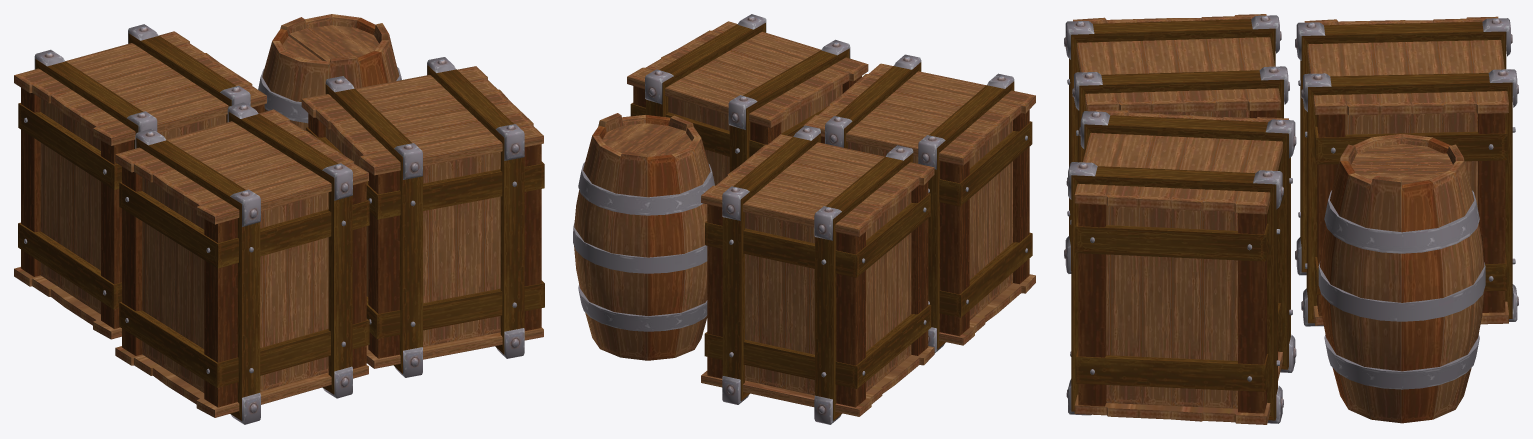
The model's file is crate.glb.
3 renders of one model, left to right at view 1: azimuth 30°, elevation 25°; view 2: azimuth 150°, elevation 25°; view 3: azimuth 270°, elevation 25°, orthographic. The views are drawn at different scales.
Parts seen in each view (by area): view 1: Barrel; view 2: Barrel; view 3: Barrel.
Part boxes in pixels (x1,y1,x2,y2): Barrel: (14,14,544,424); Barrel: (573,14,1035,424); Barrel: (1064,14,1518,424).
Bounding box in the file's own units: 1.98 × 1.2 × 1.98.
Materials: 8 (8 with a texture image).
